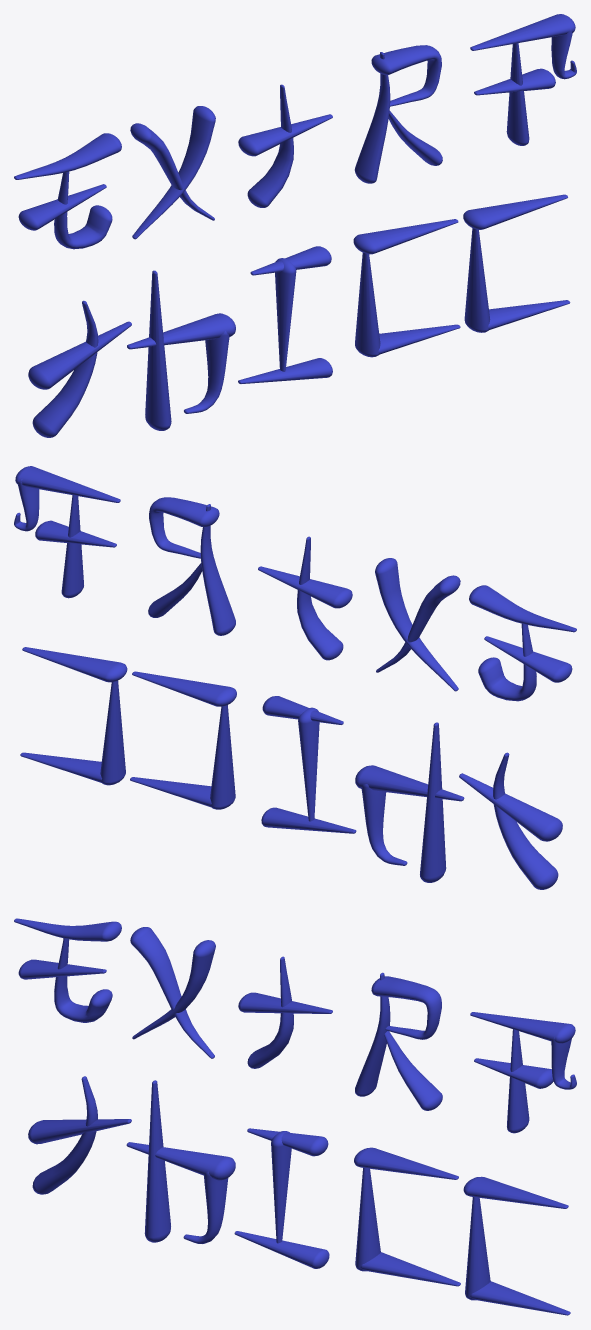
Rendered from ExtraTHICC.fbx.
The picture shows the model from 3 angles, top to bottom: view 1: azimuth 30°, elevation 25°; view 2: azimuth 150°, elevation 25°; view 3: azimuth 330°, elevation 25°; orthographic projection.
Visible parts, largest first — view 1: node_id63 (×14), root (×8), node_id178 (×3), node_id196 (×3); view 2: node_id63 (×14), root (×8), node_id178 (×3), node_id196 (×3); view 3: node_id63 (×14), root (×8), node_id178 (×3), node_id196 (×3).
Boxes of the visible parts, x1,y1,x2,y2 form: node_id63 (×14): (14, 14, 576, 249); root (×8): (28, 246, 332, 437); node_id178 (×3): (353, 219, 460, 357); node_id196 (×3): (463, 194, 570, 332); node_id63 (×14): (14, 466, 576, 701); root (×8): (261, 696, 562, 889); node_id178 (×3): (130, 671, 236, 809); node_id196 (×3): (20, 647, 127, 785); node_id63 (×14): (14, 918, 576, 1133); root (×8): (28, 1076, 329, 1268); node_id178 (×3): (354, 1147, 460, 1286); node_id196 (×3): (463, 1176, 570, 1315).
Size of the model in its own units: 0.5707 by 0.3126 by 0.0331.
